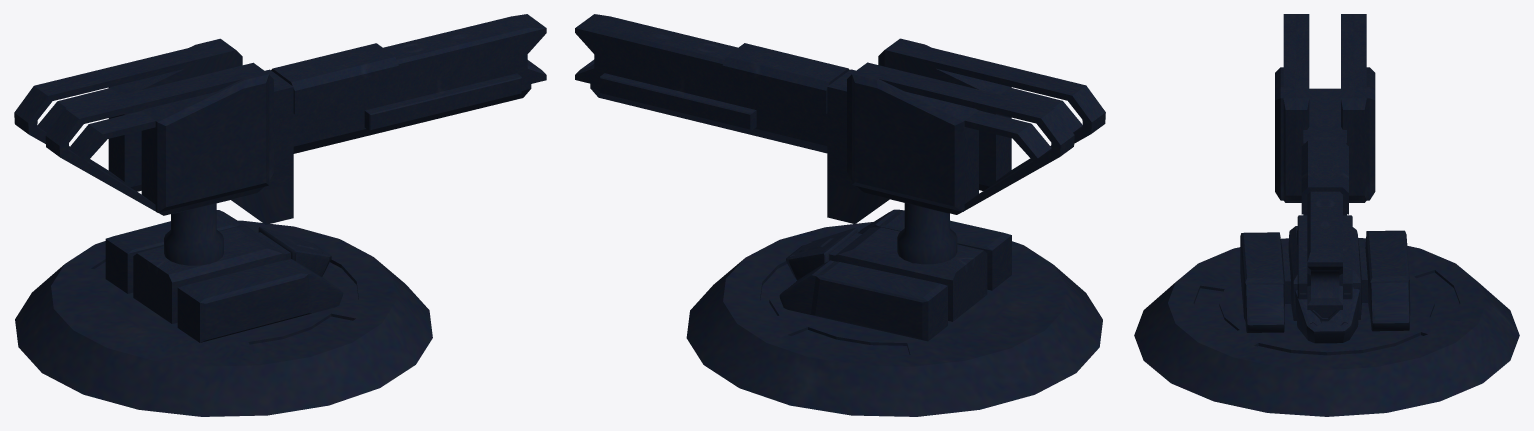
The model's file is TurretWithTexture.fbx.
The picture shows the model from 3 angles, left to right: view 1: azimuth 30°, elevation 25°; view 2: azimuth 150°, elevation 25°; view 3: azimuth 270°, elevation 25°; orthographic projection. The views are drawn at different scales.
Parts seen in each view (by area): view 1: SupportForTurret, DécorHautCanon, Canon, BaseTurret, EnfantPillier, SupportNéon; view 2: SupportForTurret, DécorHautCanon, Canon, BaseTurret, EnfantPillier, SupportNéon; view 3: SupportForTurret, BaseTurret, DécorHautCanon, Canon, SupportNéon, NéonCanon.
Boxes of the visible parts, x1,y1,x2,y2 form: SupportForTurret: (15, 220, 432, 416); DécorHautCanon: (14, 38, 273, 215); Canon: (172, 14, 546, 224); BaseTurret: (105, 210, 343, 342); EnfantPillier: (164, 203, 223, 265); SupportNéon: (94, 262, 358, 353); SupportForTurret: (686, 222, 1102, 416); DécorHautCanon: (847, 38, 1105, 214); Canon: (575, 14, 948, 223); BaseTurret: (779, 209, 1011, 341); EnfantPillier: (897, 203, 957, 264); SupportNéon: (760, 264, 909, 354); SupportForTurret: (1134, 238, 1519, 416); BaseTurret: (1240, 226, 1410, 343); DécorHautCanon: (1275, 14, 1375, 202); Canon: (1297, 88, 1352, 321); SupportNéon: (1194, 272, 1459, 355); NéonCanon: (1300, 270, 1350, 298).
Size of the model in its own units: 167 by 85.44 by 121.
